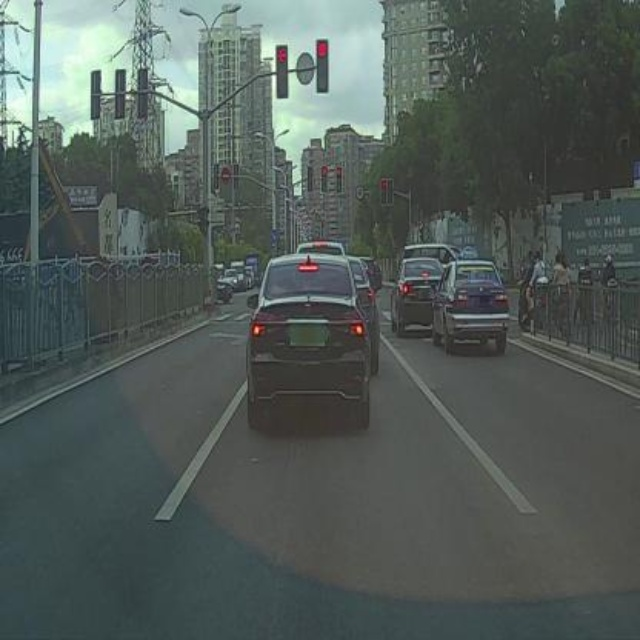Đèn đỏ: (317, 39, 329, 90), (321, 163, 328, 192), (335, 168, 342, 193)
